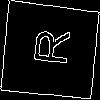R: (25, 25, 71, 68)
